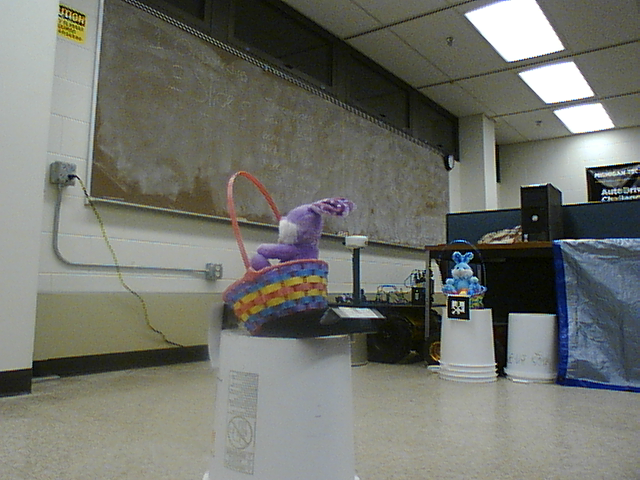bunny: (433, 234, 490, 314)
